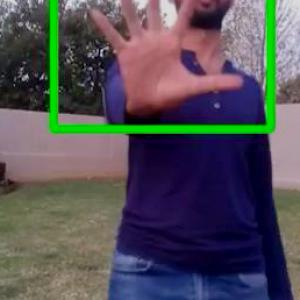follow_hand: (79, 0, 248, 120)
